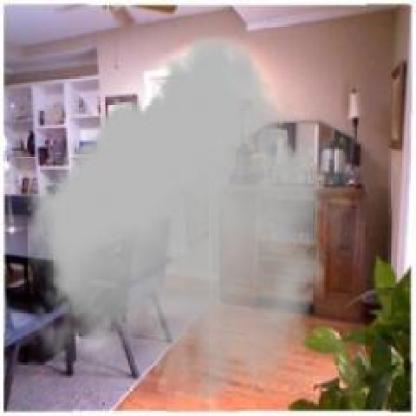Smoke: (23, 35, 364, 398)
